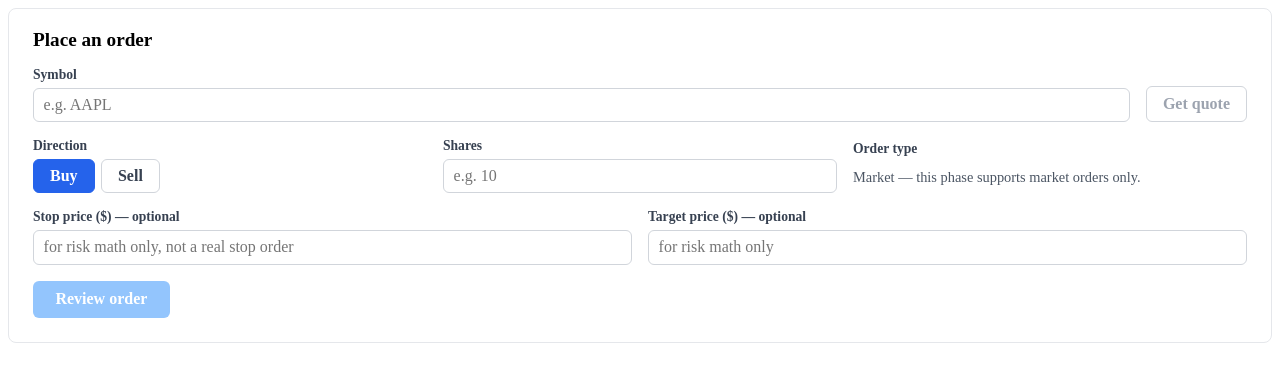
it: OrderForm quote failure › shows the provider's error message and does not render a quote
The width and height of the screenshot is (1280, 392).
Type "BADSYM" into the field labelled "Symbol" at (581,105), box [33,88,1130,122]
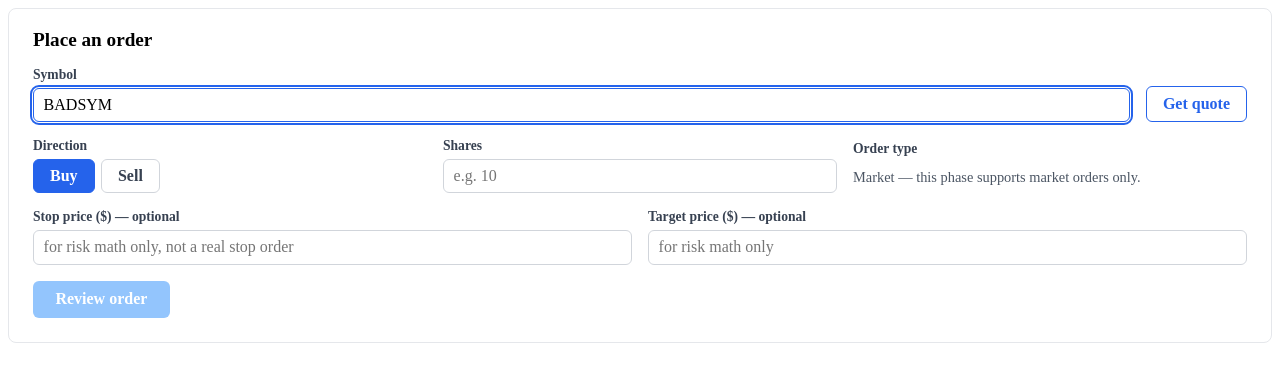
Click the button "Get quote" at (1196,104), box [1146,86,1247,122]
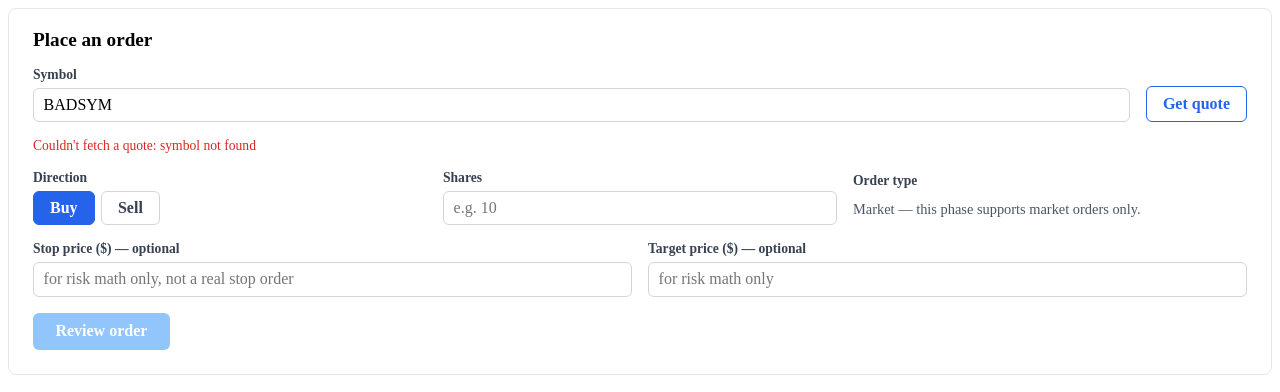
Check: the button "Review order" is disabled, box [33,312,170,350]
Check: the text "Couldn't fetch a quote: symbol not found" is shown, box [33,138,256,153]
